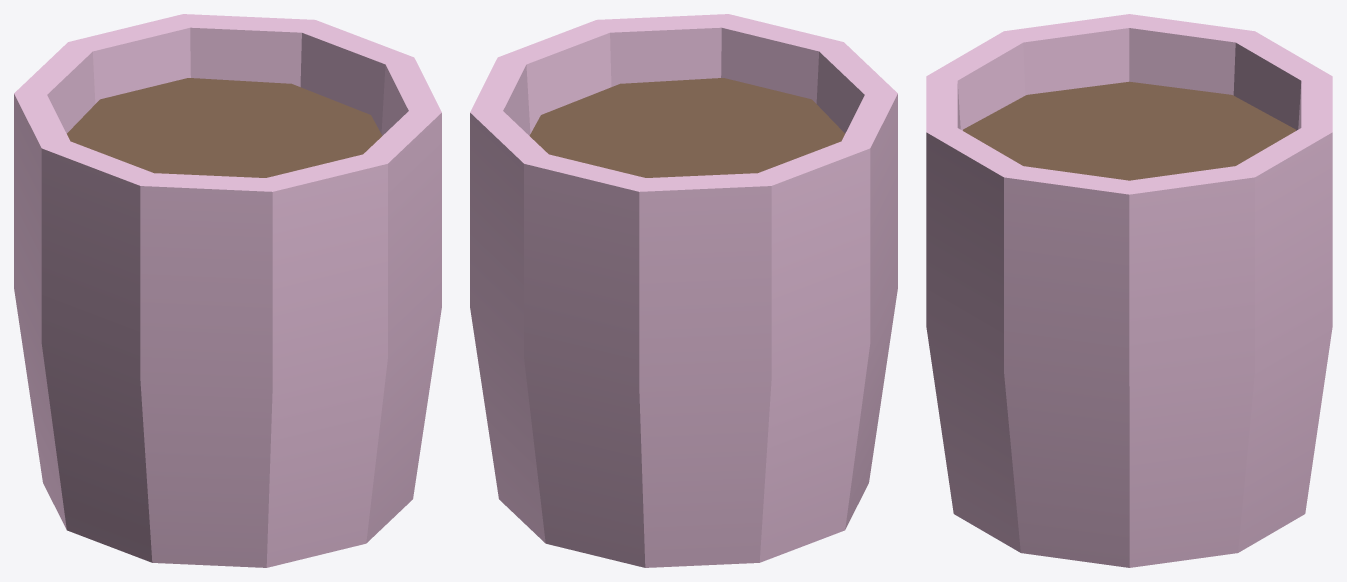
File: plant05_01.gltf
3 renders of one model, left to right at view 1: azimuth 30°, elevation 25°; view 2: azimuth 150°, elevation 25°; view 3: azimuth 270°, elevation 25°, orthographic.
Parts seen in each view (by area): view 1: pot, dirt; view 2: pot, dirt; view 3: pot, dirt.
Boxes of the visible parts, <box> form: pot: <box>14,14,441,567</box>; dirt: <box>67,78,382,177</box>; pot: <box>470,14,897,567</box>; dirt: <box>529,78,844,177</box>; pot: <box>926,14,1332,567</box>; dirt: <box>963,81,1295,180</box>.
Size of the model in its own units: 0.0179 by 0.0178 by 0.017.
1 material, 1 textured.
